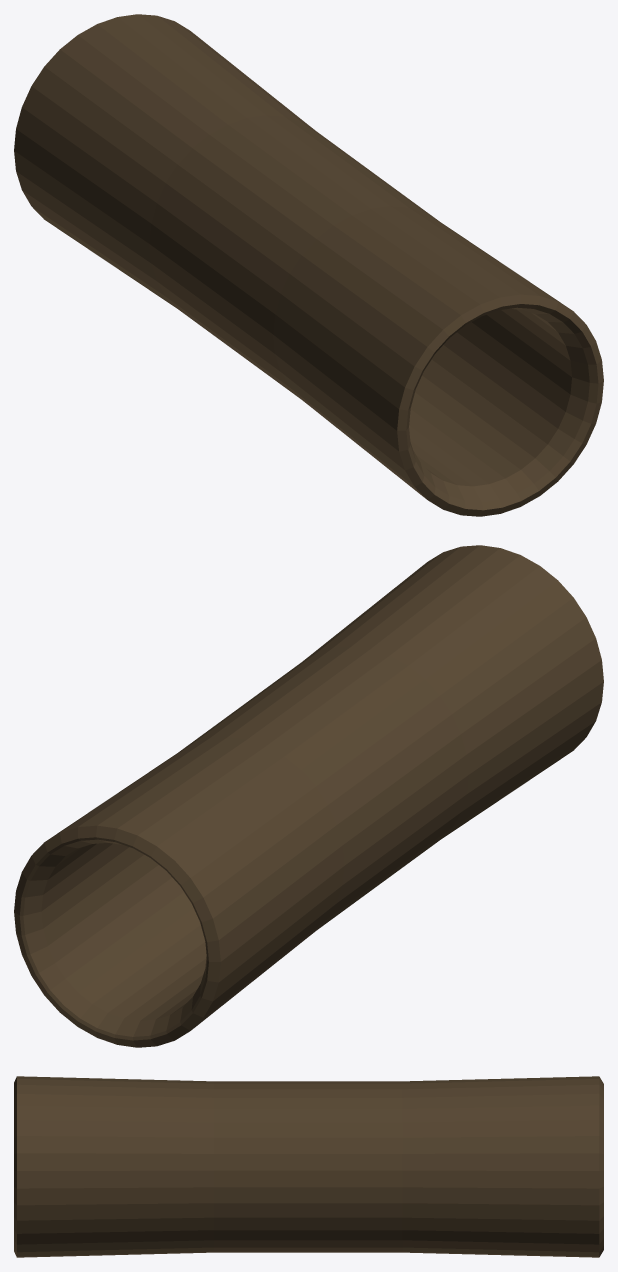
Rendered from Log.fbx.
3 renders of one model, top to bottom at view 1: azimuth 30°, elevation 25°; view 2: azimuth 150°, elevation 25°; view 3: azimuth 270°, elevation 25°, orthographic. The views are drawn at different scales.
Parts seen in each view (by area): view 1: Cylinder; view 2: Cylinder; view 3: Cylinder.
Part boxes in pixels (bbox=[...]): Cylinder: bbox=[14, 14, 603, 516]; Cylinder: bbox=[14, 545, 603, 1047]; Cylinder: bbox=[14, 1076, 603, 1257].
Size of the model in its own units: 199 by 199 by 648.
